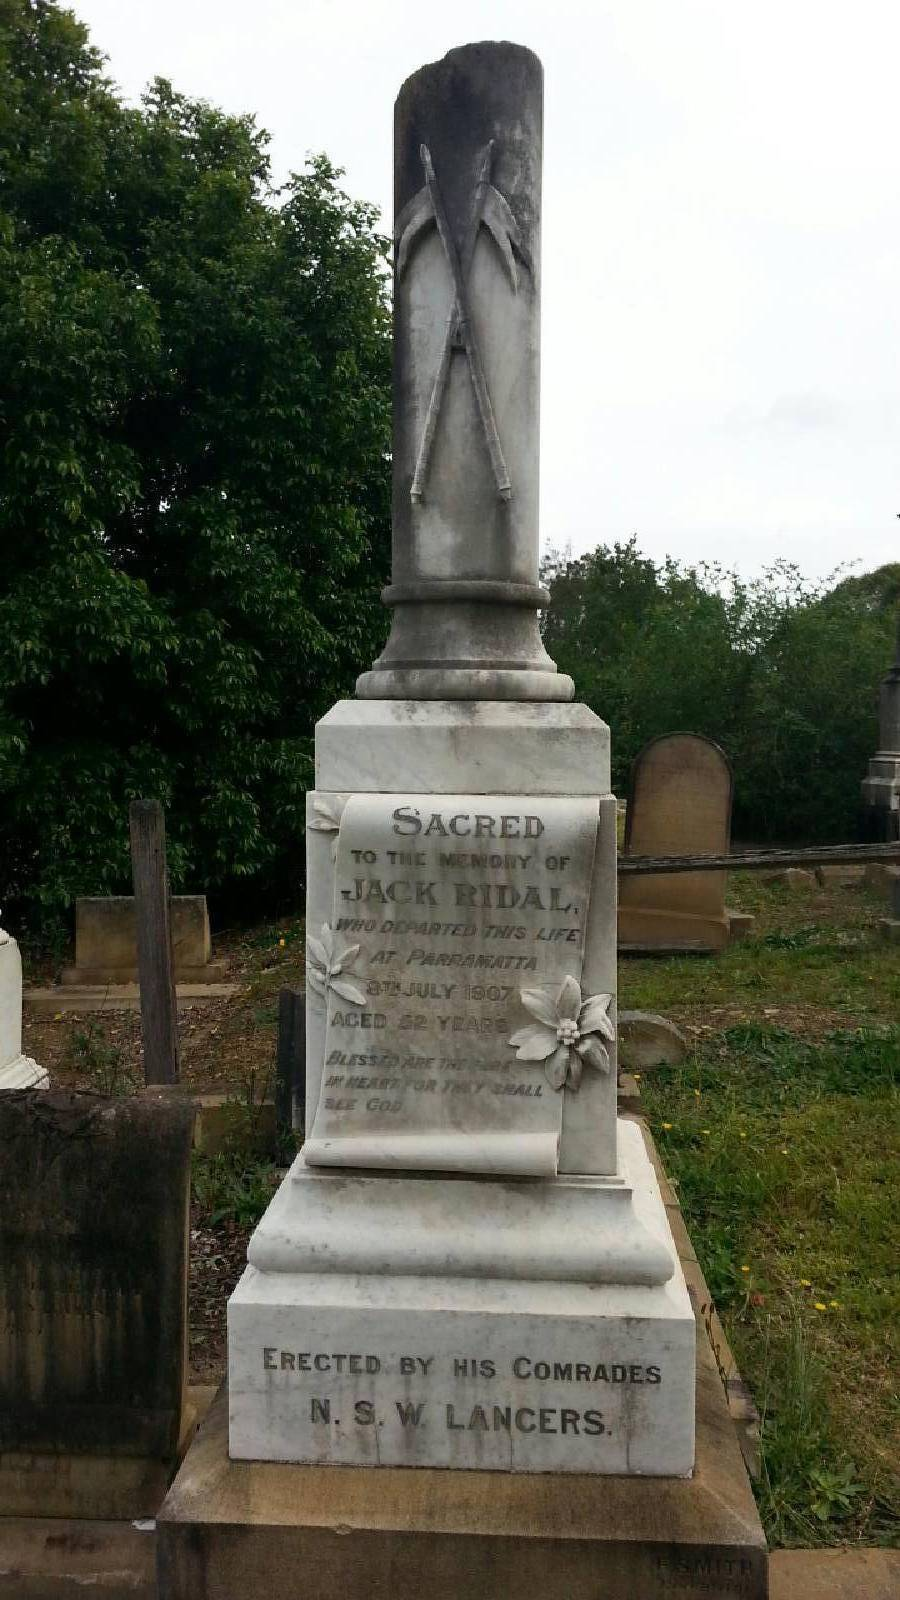statue: (149, 41, 768, 1589)
